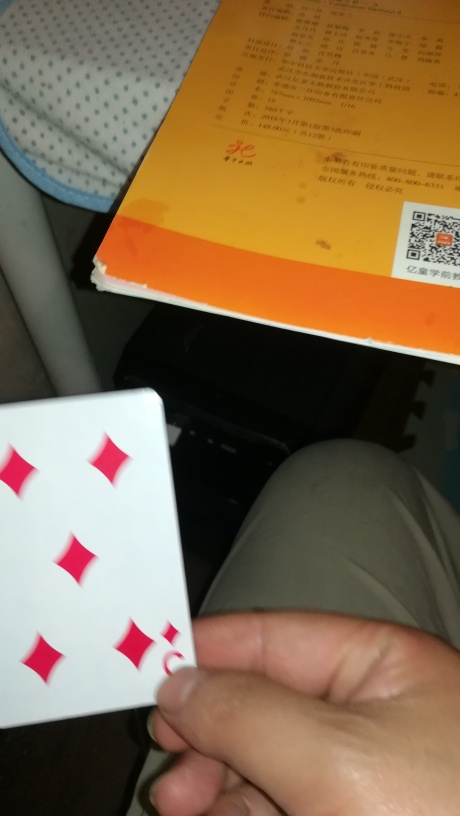fk 5: (0, 385, 211, 735)
